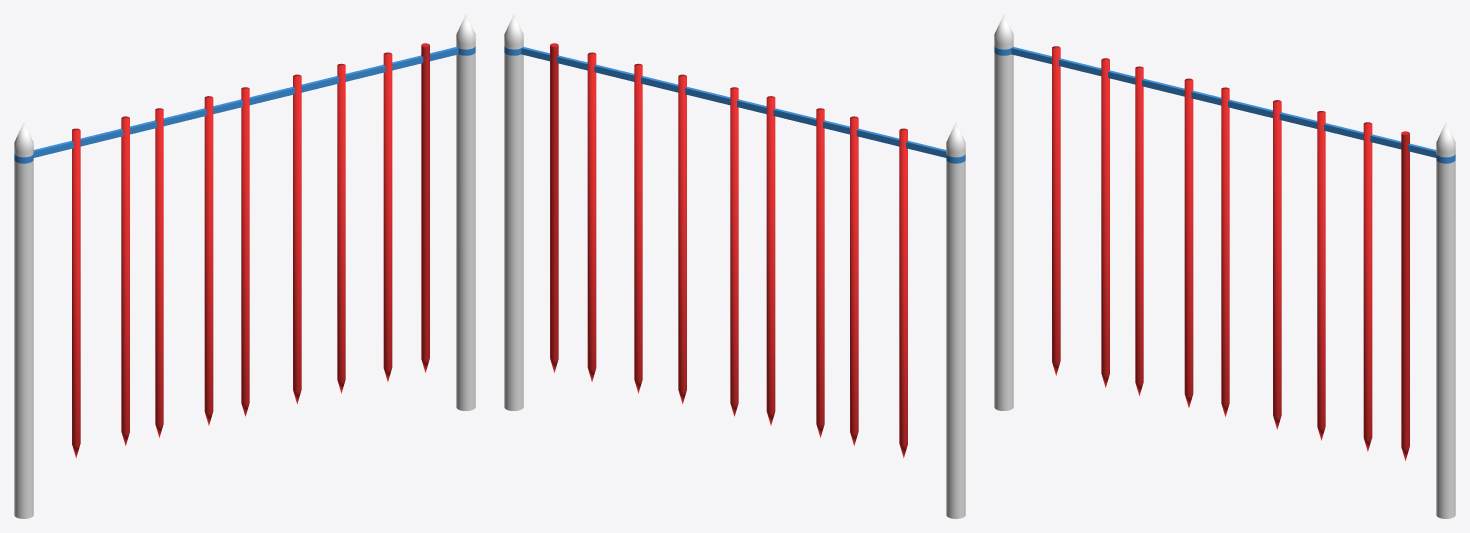
The model's file is obstacle4.fbx.
The picture shows the model from 3 angles, left to right: view 1: azimuth 30°, elevation 25°; view 2: azimuth 150°, elevation 25°; view 3: azimuth 330°, elevation 25°; orthographic projection.
Parts seen in each view (by area): view 1: Cylinder.018, Cylinder.015, Cylinder.010, Cylinder.016, Cylinder.014, Cylinder.013, Cylinder.019, Cylinder.017, Cylinder.012, Cylinder.011; view 2: Cylinder.018, Cylinder.015, Cylinder.010, Cylinder.016, Cylinder.014, Cylinder.013, Cylinder.019, Cylinder.017, Cylinder.012, Cylinder.011; view 3: Cylinder.018, Cylinder.015, Cylinder.010, Cylinder.013, Cylinder.019, Cylinder.016, Cylinder.014, Cylinder.017, Cylinder.012, Cylinder.011.
Part boxes in pixels (x1,y1,x2,y2): Cylinder.018: (14,14,475,518); Cylinder.015: (204,96,213,425); Cylinder.010: (383,52,392,381); Cylinder.016: (155,108,163,437); Cylinder.014: (241,87,249,416); Cylinder.013: (72,128,80,457); Cylinder.019: (421,43,429,372); Cylinder.017: (293,74,301,403); Cylinder.012: (121,116,129,445); Cylinder.011: (337,63,345,393); Cylinder.018: (504,14,965,518); Cylinder.015: (766,96,775,425); Cylinder.010: (587,52,596,381); Cylinder.016: (816,108,824,437); Cylinder.014: (730,87,738,416); Cylinder.013: (899,128,907,457); Cylinder.019: (550,43,558,372); Cylinder.017: (678,74,686,403); Cylinder.012: (850,116,858,445); Cylinder.011: (634,63,642,393); Cylinder.018: (994,14,1455,518); Cylinder.015: (1184,78,1193,407); Cylinder.010: (1363,122,1372,451); Cylinder.013: (1052,46,1060,375); Cylinder.019: (1401,131,1409,460); Cylinder.016: (1135,66,1143,395); Cylinder.014: (1221,87,1229,417); Cylinder.017: (1273,100,1281,429); Cylinder.012: (1101,58,1109,387); Cylinder.011: (1317,111,1325,440).
Size of the model in its own units: 185 by 151 by 6.8.
1 material, 1 textured.
